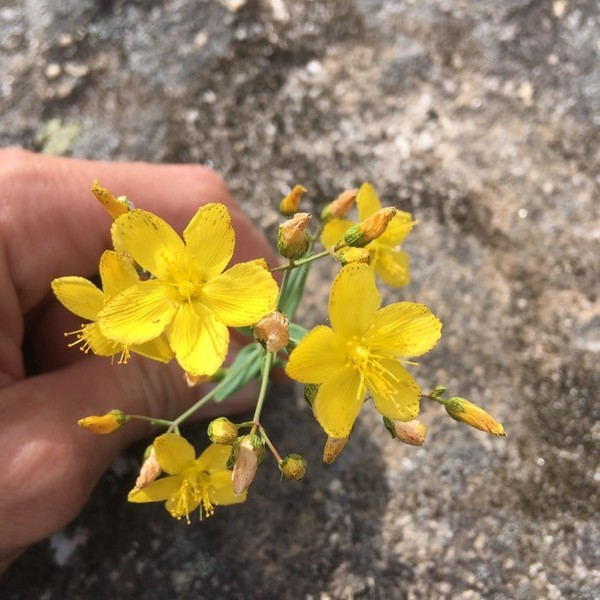obstacle: (85, 158, 521, 513)
